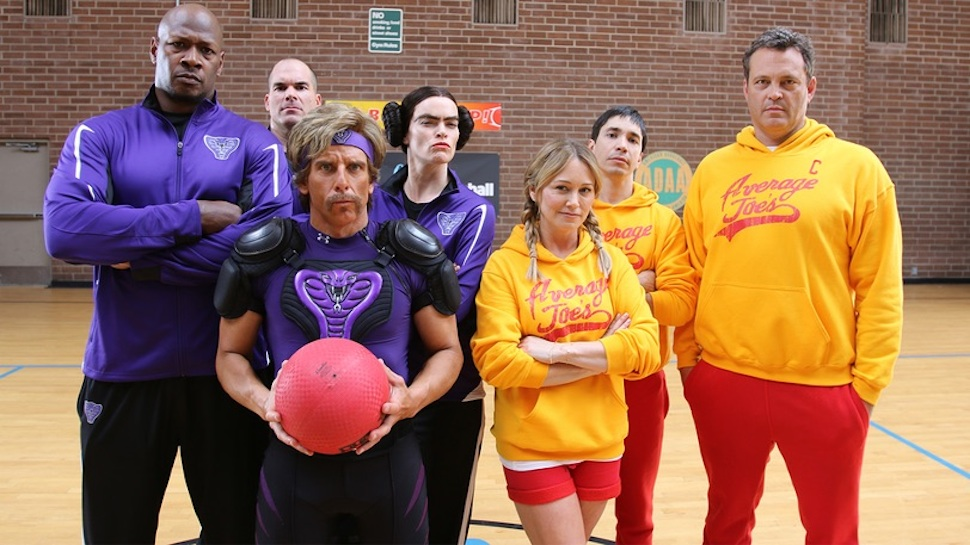red ball: (267, 333, 397, 461)
